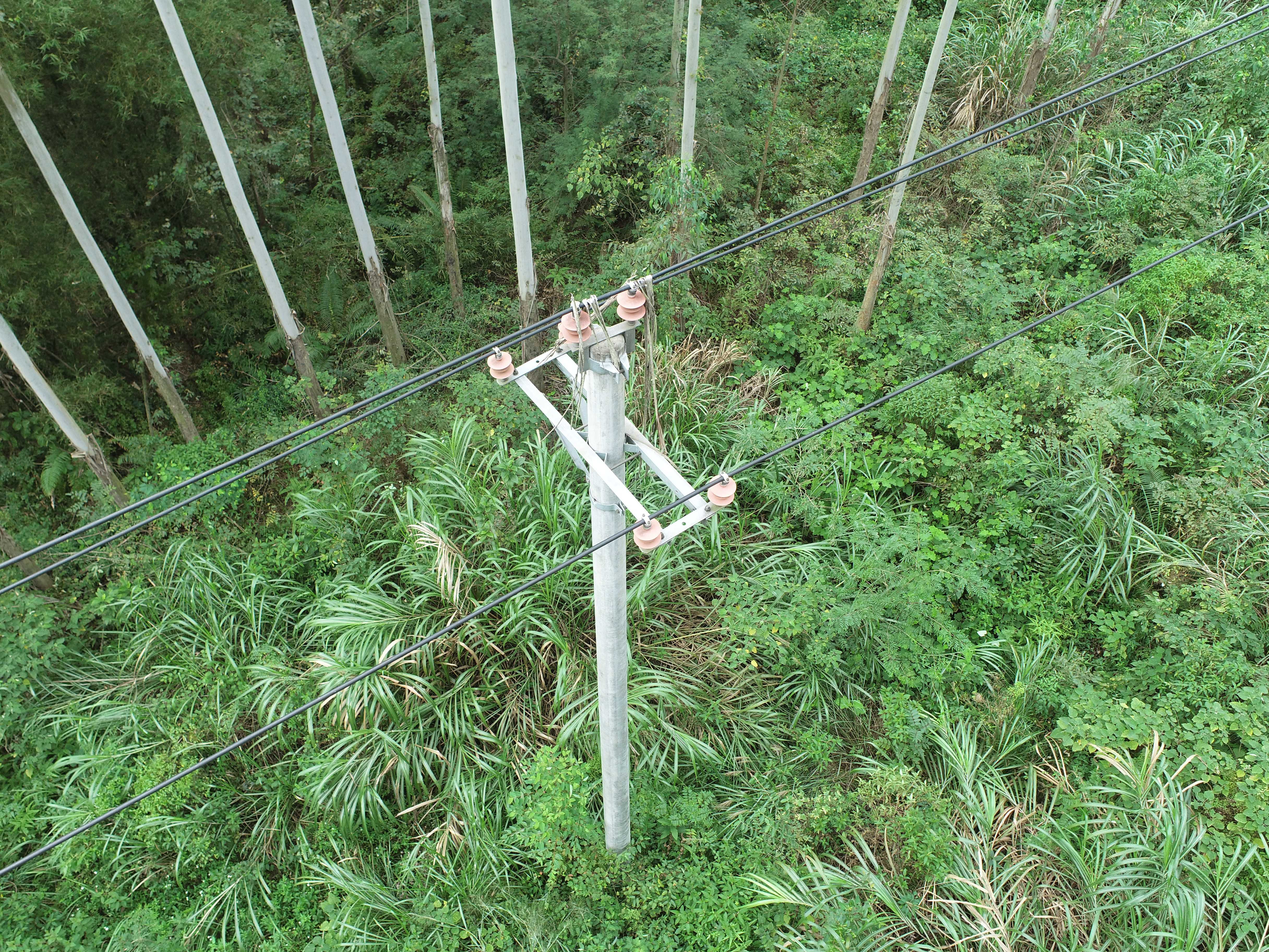异物: (536, 269, 690, 475)
